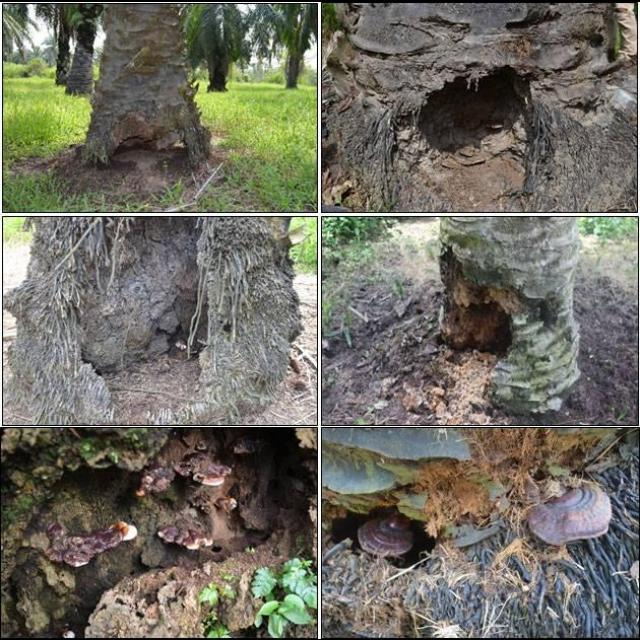ganoderma: (527, 481, 614, 548), (43, 526, 122, 569), (357, 513, 415, 557), (174, 455, 234, 488), (158, 528, 217, 551)
primordium: (119, 522, 138, 543)
